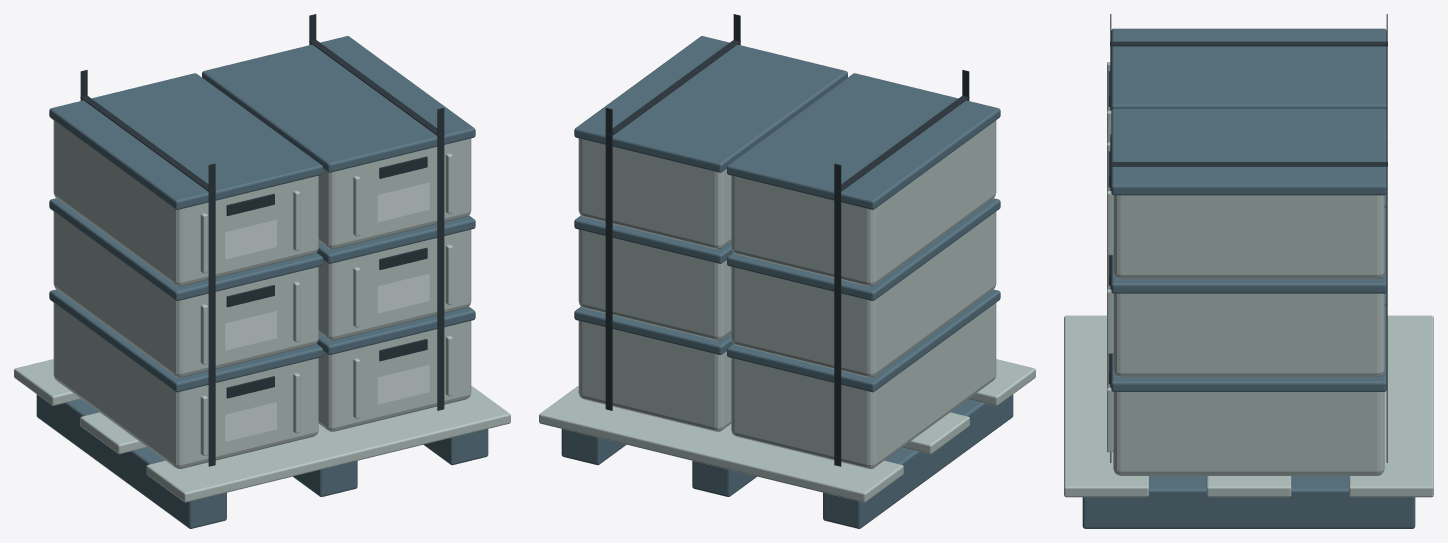
Rendered from OD_PalletLoad_1.fbx.
3 views of the same model, side by side, from view 1: azimuth 30°, elevation 25°; view 2: azimuth 150°, elevation 25°; view 3: azimuth 270°, elevation 25° (orthographic). The views are drawn at different scales.
Visible parts, largest first — view 1: OD_PalletLoad_1; view 2: OD_PalletLoad_1; view 3: OD_PalletLoad_1.
Boxes of the visible parts, x1,y1,x2,y2 form: OD_PalletLoad_1: [14, 14, 510, 528]; OD_PalletLoad_1: [539, 14, 1035, 528]; OD_PalletLoad_1: [1064, 14, 1433, 528].
Size of the model in its own units: 120 by 122 by 109.
